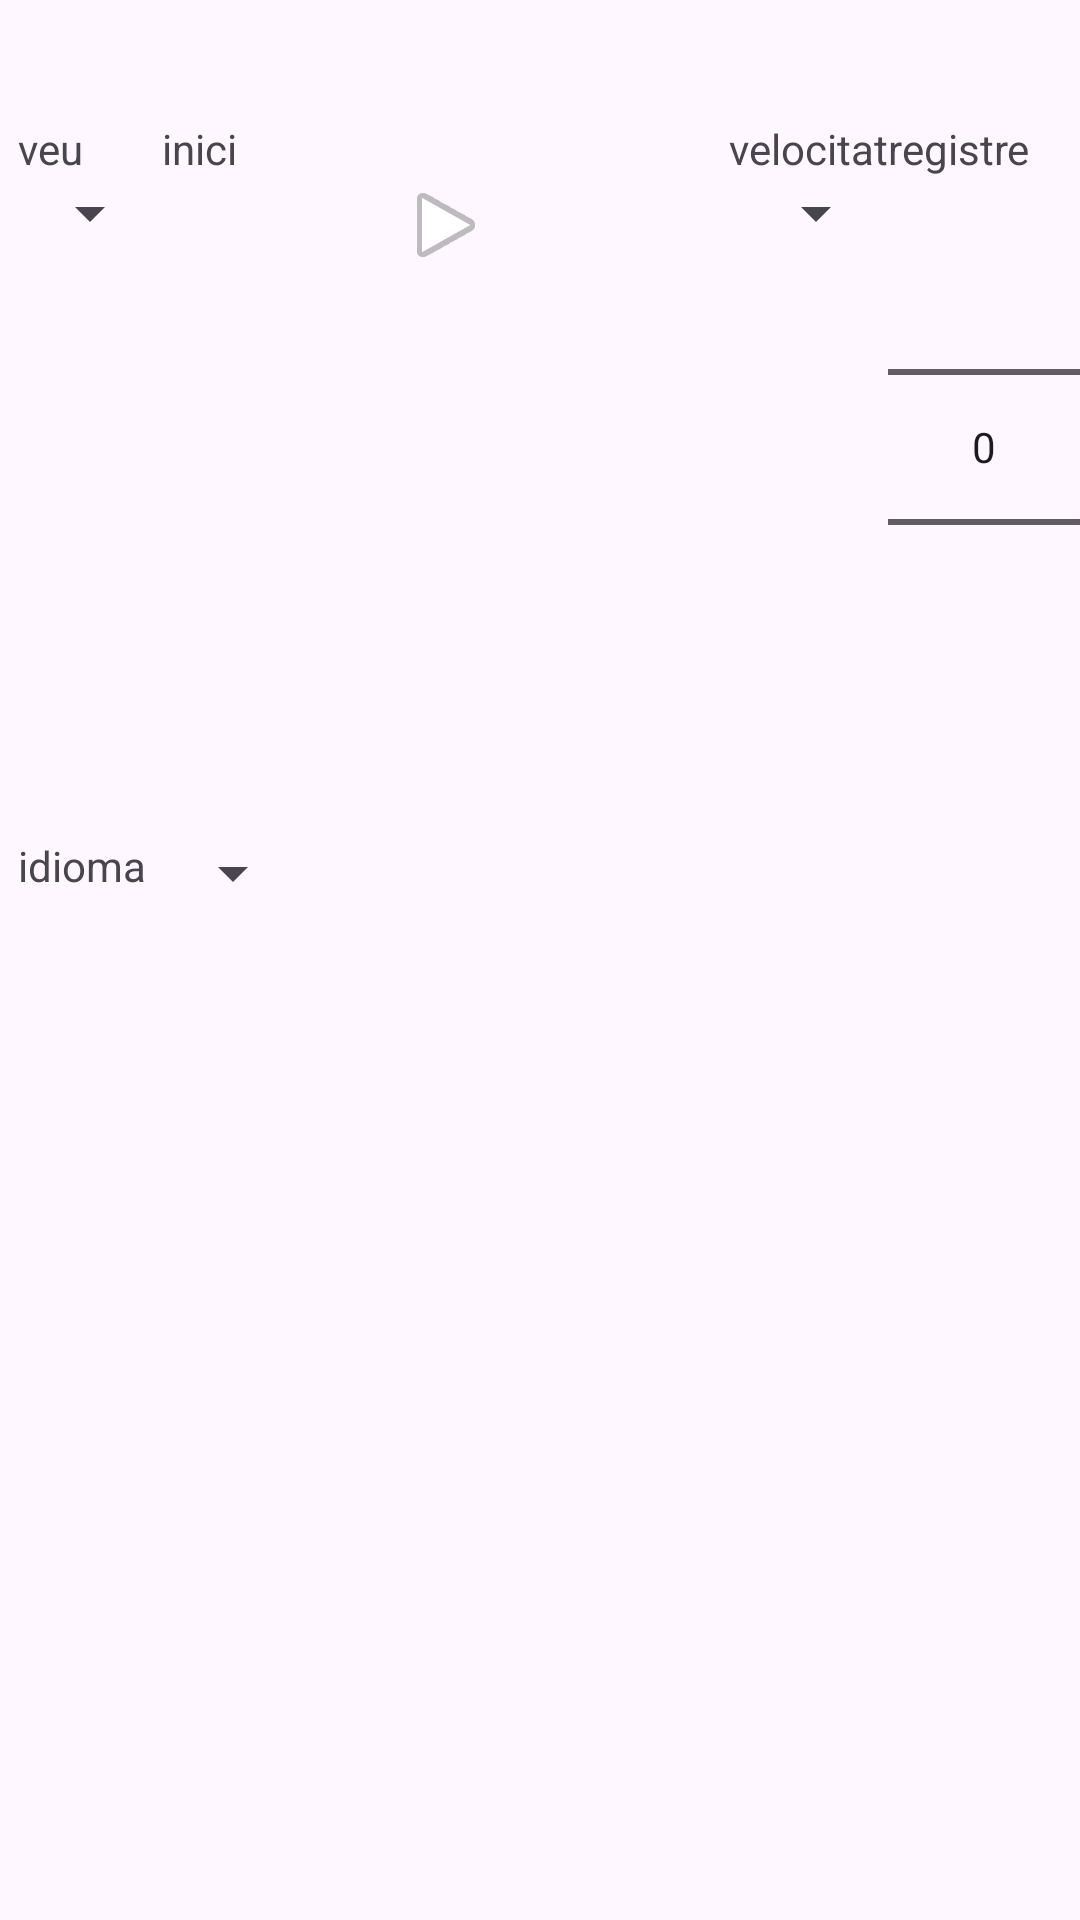

Screen size 1080x1920. Icon name, then its box in pixels as (x1, y1, x2, y2):
play: (417, 193, 475, 257)
